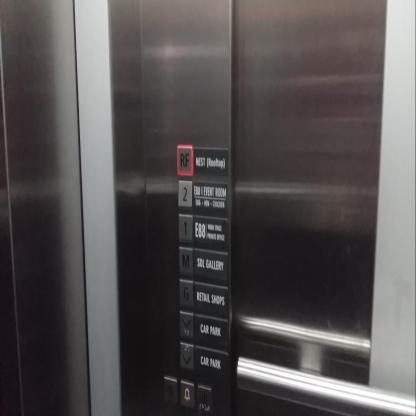1: (177, 212, 193, 242)
2: (177, 178, 193, 208)
G: (178, 276, 193, 309)
M: (178, 244, 193, 275)
RF: (176, 142, 193, 176)
alarm: (179, 378, 194, 408)
close: (196, 384, 211, 414)
down: (178, 309, 194, 340), (178, 340, 194, 370)
open: (162, 374, 178, 404)
